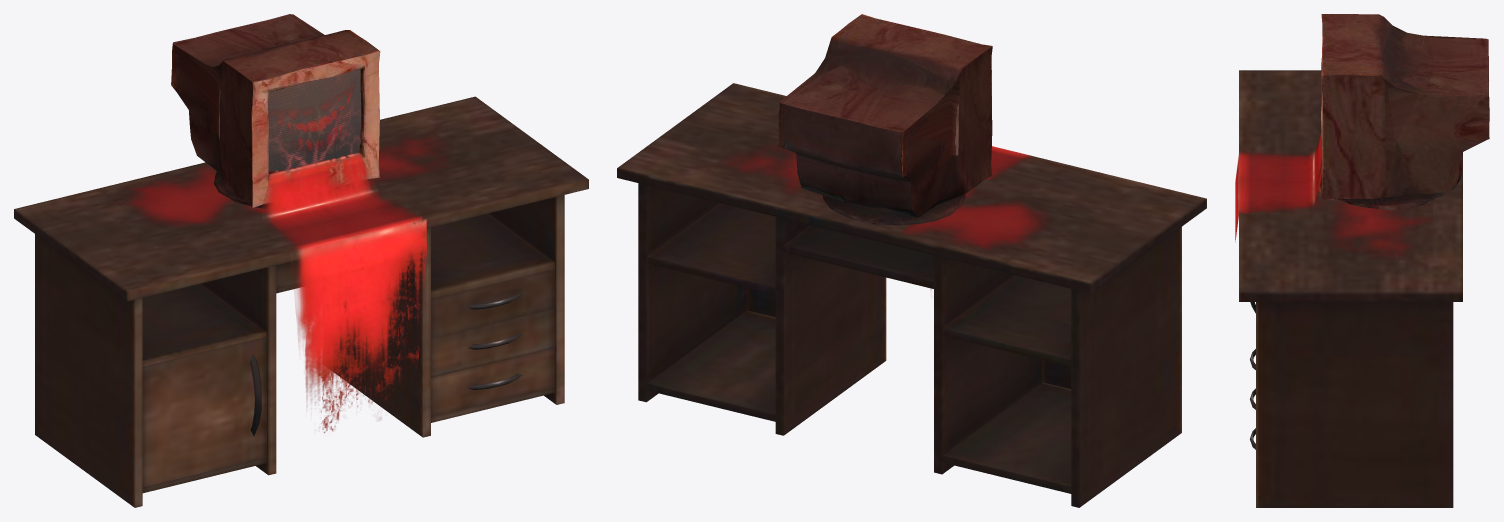
Rendered from conference_table.glb.
3 views of the same model, side by side, from view 1: azimuth 30°, elevation 25°; view 2: azimuth 150°, elevation 25°; view 3: azimuth 270°, elevation 25° (orthographic). The views are drawn at different scales.
Parts seen in each view (by area): view 1: Desk, Plane, CRT, CRT.001; view 2: Desk, CRT, Plane; view 3: Desk, CRT, Plane.
Part boxes in pixels (x1,y1,x2,y2): Desk: (14, 96, 588, 507); Plane: (106, 125, 472, 432); CRT: (171, 14, 380, 209); CRT.001: (268, 69, 361, 171); Desk: (617, 83, 1206, 507); CRT: (778, 14, 992, 225); Plane: (706, 138, 1060, 289); Desk: (1239, 70, 1462, 507); CRT: (1319, 14, 1489, 210); Plane: (1235, 131, 1432, 260).
Bounding box in the file's own units: 8.53 × 6.45 × 4.13.
Materials: 4 (4 with a texture image).
